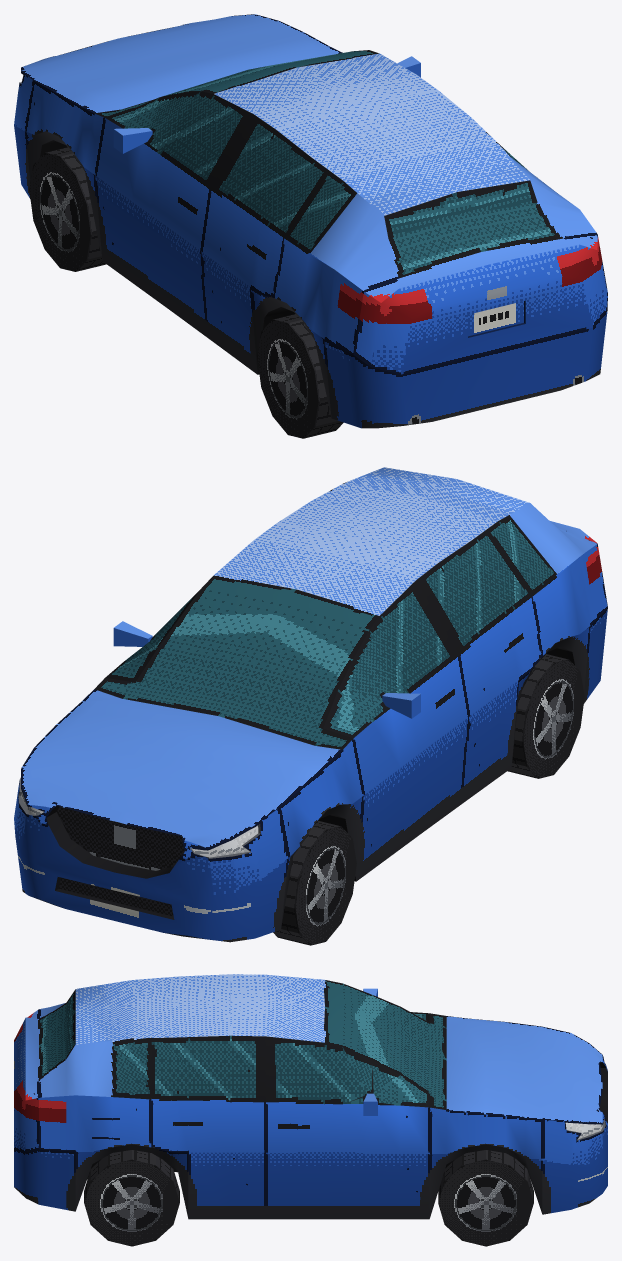
The picture shows the model from 3 angles, top to bottom: view 1: azimuth 30°, elevation 25°; view 2: azimuth 150°, elevation 25°; view 3: azimuth 270°, elevation 25°; orthographic projection. The views are drawn at different scales.
Visible parts, largest first — view 1: body, tailgate, door_FL, door_RL, bumper_R, hood, wheel_RL, wheel_FL, fender_FL, bumper_F, mirror_L; view 2: body, hood, bumper_F, door_FL, door_RL, wheel_FL, wheel_RL, fender_FL, door_FR, bumper_R, headlight_L, mirror_L (+1 smaller); view 3: body, door_FR, door_RR, hood, wheel_RR, wheel_FR, fender_FR, bumper_F, tailgate, bumper_R, headlight_R.
Boxes of the visible parts, <box> form: body: <box>40,50,597,416</box>; tailgate: <box>353,180,607,374</box>; door_FL: <box>95,91,253,337</box>; door_RL: <box>201,114,329,374</box>; bumper_R: <box>324,310,607,428</box>; hood: <box>21,14,342,113</box>; wheel_RL: <box>257,314,343,438</box>; wheel_FL: <box>29,147,106,271</box>; fender_FL: <box>25,81,104,259</box>; bumper_F: <box>14,68,33,199</box>; mirror_L: <box>113,128,152,153</box>; body: <box>94,467,607,881</box>; hood: <box>21,689,342,859</box>; bumper_F: <box>14,769,288,942</box>; door_FL: <box>323,580,468,881</box>; door_RL: <box>416,529,542,804</box>; wheel_FL: <box>273,821,356,945</box>; wheel_RL: <box>507,654,584,778</box>; fender_FL: <box>279,739,363,926</box>; door_FR: <box>105,590,199,682</box>; bumper_R: <box>584,608,607,703</box>; headlight_L: <box>189,824,260,858</box>; mirror_L: <box>382,693,420,718</box>; body: <box>39,974,526,1217</box>; door_FR: <box>265,1036,429,1219</box>; door_RR: <box>151,1035,265,1219</box>; hood: <box>446,1016,607,1126</box>; wheel_RR: <box>84,1150,179,1246</box>; wheel_FR: <box>438,1150,533,1246</box>; fender_FR: <box>429,1107,542,1218</box>; bumper_F: <box>542,1062,607,1214</box>; tailgate: <box>14,989,75,1152</box>; bumper_R: <box>14,1149,75,1211</box>; headlight_R: <box>565,1119,605,1140</box>.
Size of the model in its own units: 2.04 by 1.65 by 4.53.
Materials: 2 (2 with a texture image).
